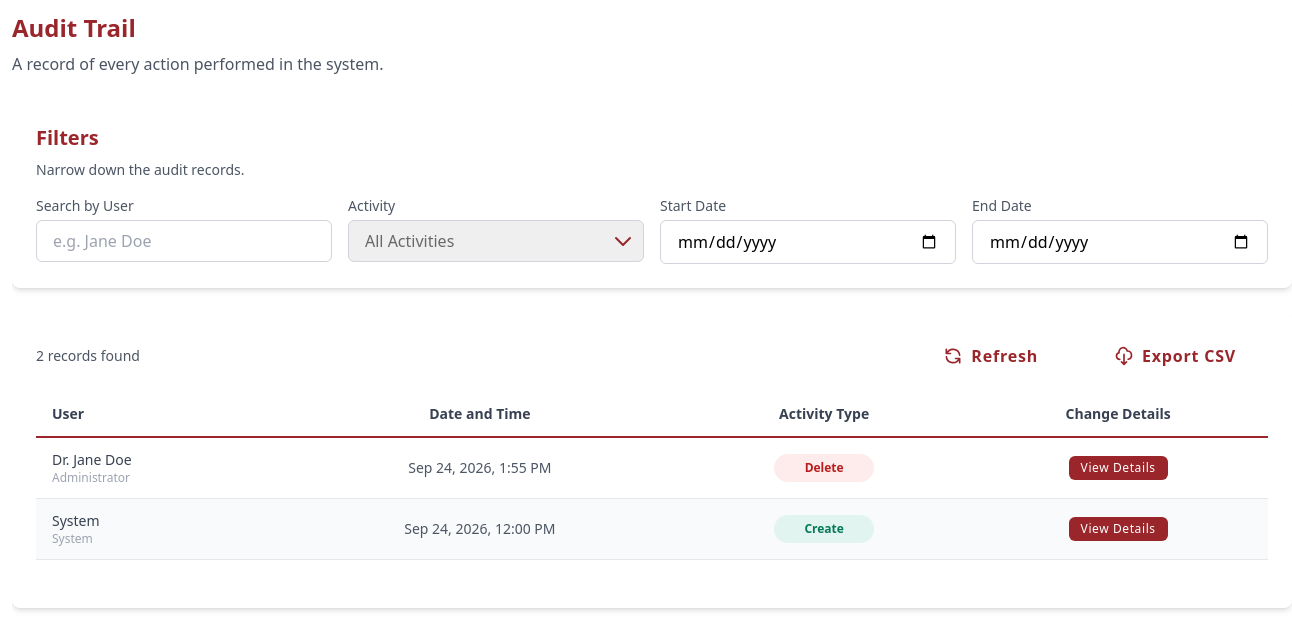
audit trail › server-side filters and export › reports an export that fails part-way and exports nothing
What coordinates should you click on to do the following:
click the button "Export CSV"
I would click on:
 (1175, 356)
Its box is [1082, 336, 1268, 376].
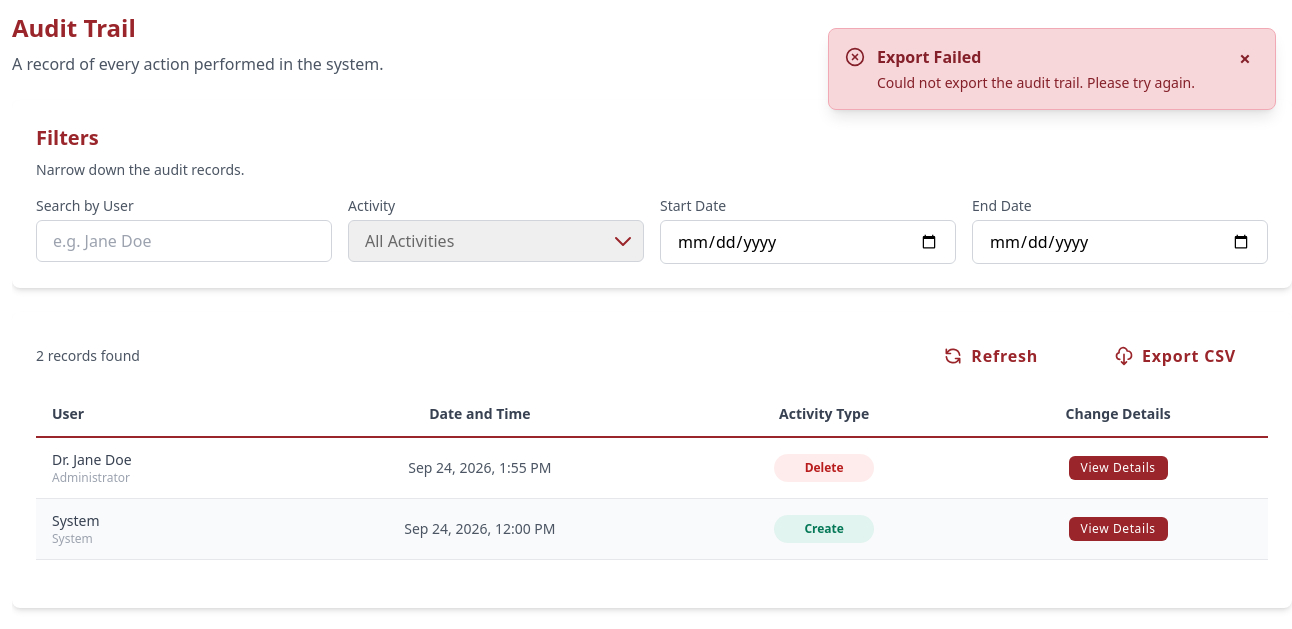
Result: the text "Could not export the audit trail. Please try again." is shown at [877, 73, 1223, 93]
